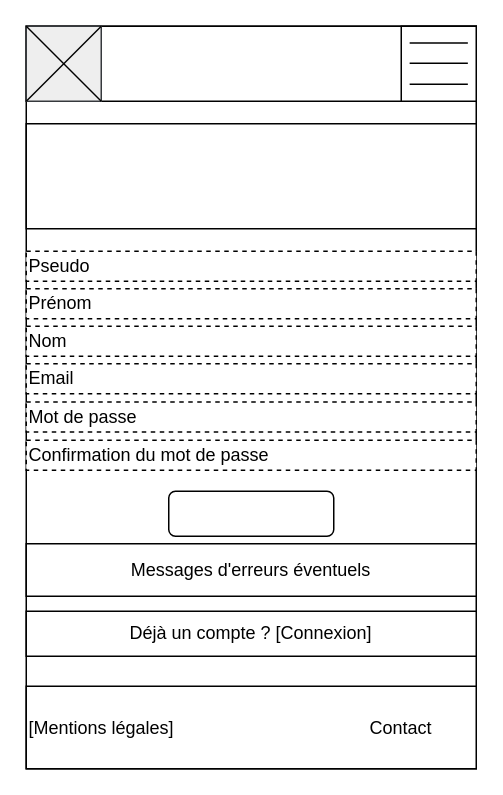
Some shapes in this 503 by 795 pixel diagram are drawn without their labels. Each missing label, with the centre of its shape:
"Connexion" belongs at [250,513].
"Page de création de compte" belongs at [250,175].
